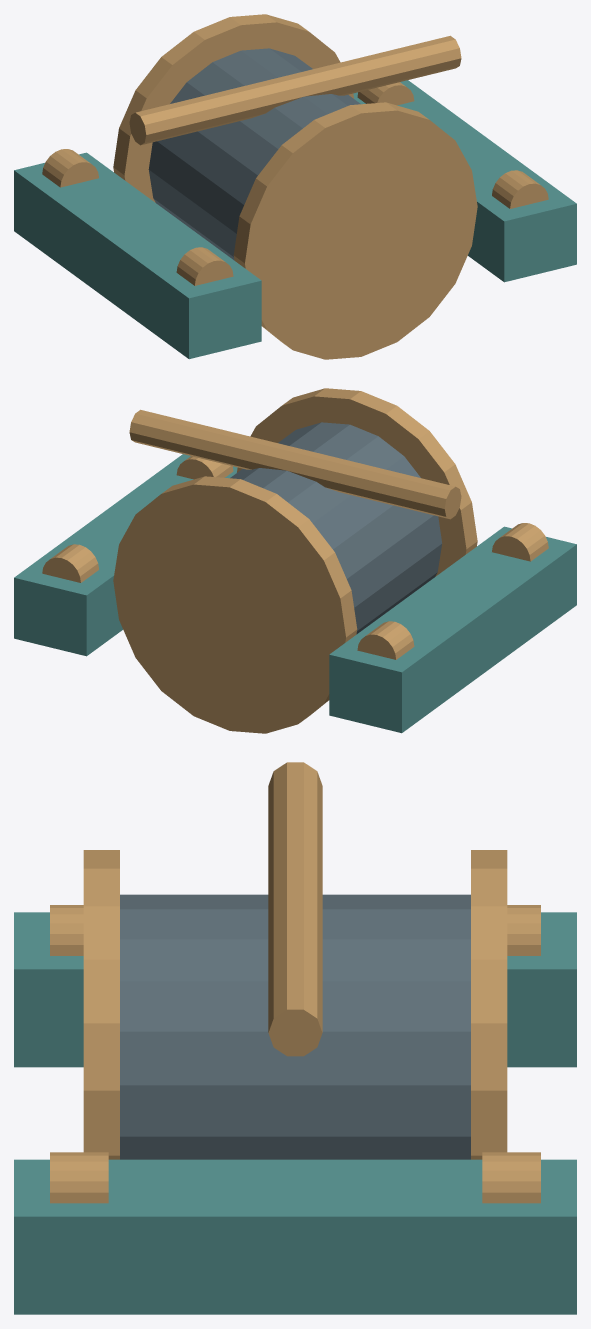
The model's file is WingHinge.glb.
The picture shows the model from 3 angles, top to bottom: view 1: azimuth 30°, elevation 25°; view 2: azimuth 150°, elevation 25°; view 3: azimuth 270°, elevation 25°; orthographic projection. The views are drawn at different scales.
Parts seen in each view (by area): view 1: WingHinge; view 2: WingHinge; view 3: WingHinge.
Boxes of the visible parts, x1=… form: WingHinge: x1=14, y1=14, x2=576, y2=359; WingHinge: x1=14, y1=388, x2=576, y2=733; WingHinge: x1=14, y1=762, x2=576, y2=1314.
Bounding box in the file's own units: 1.6 × 0.96 × 1.25.
